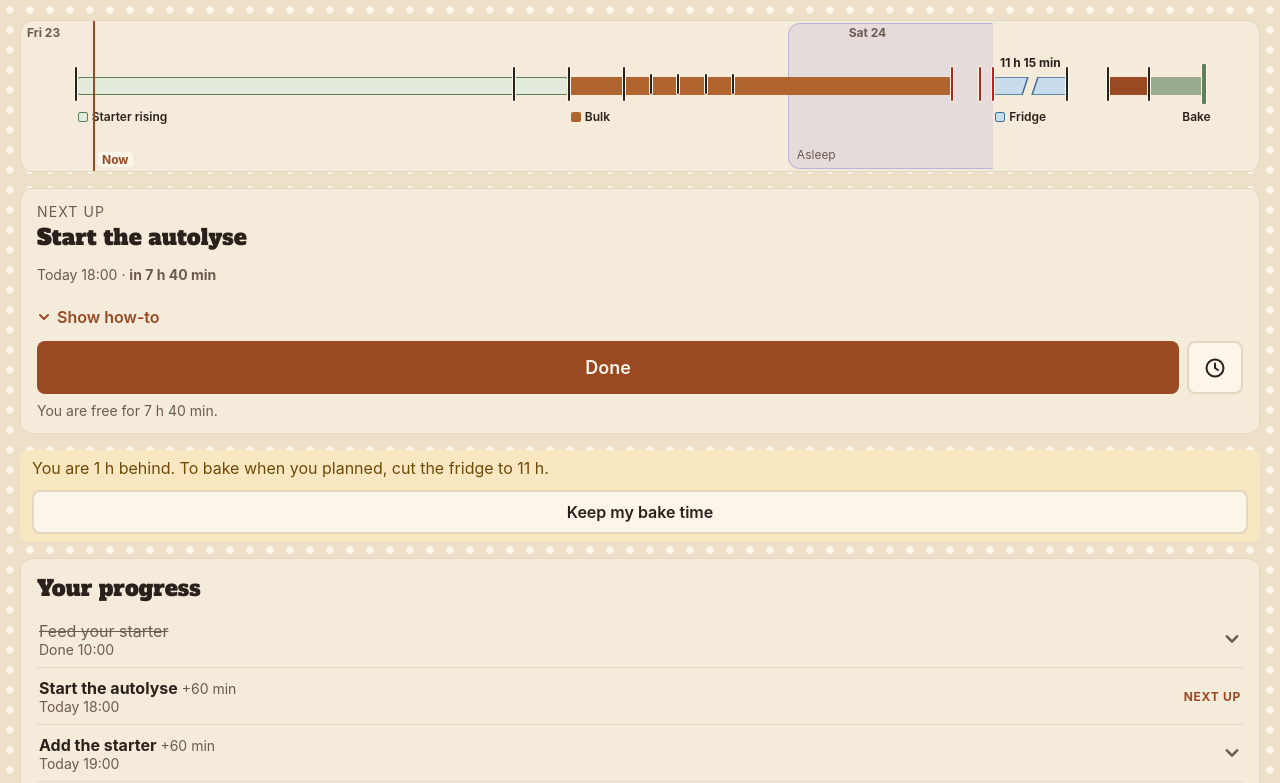
Test: live view › leaves out a quick answer that would be before the step above it
The image size is (1280, 783).
Click the button named "Done earlier" at (1215, 368), box [1187, 341, 1243, 394]
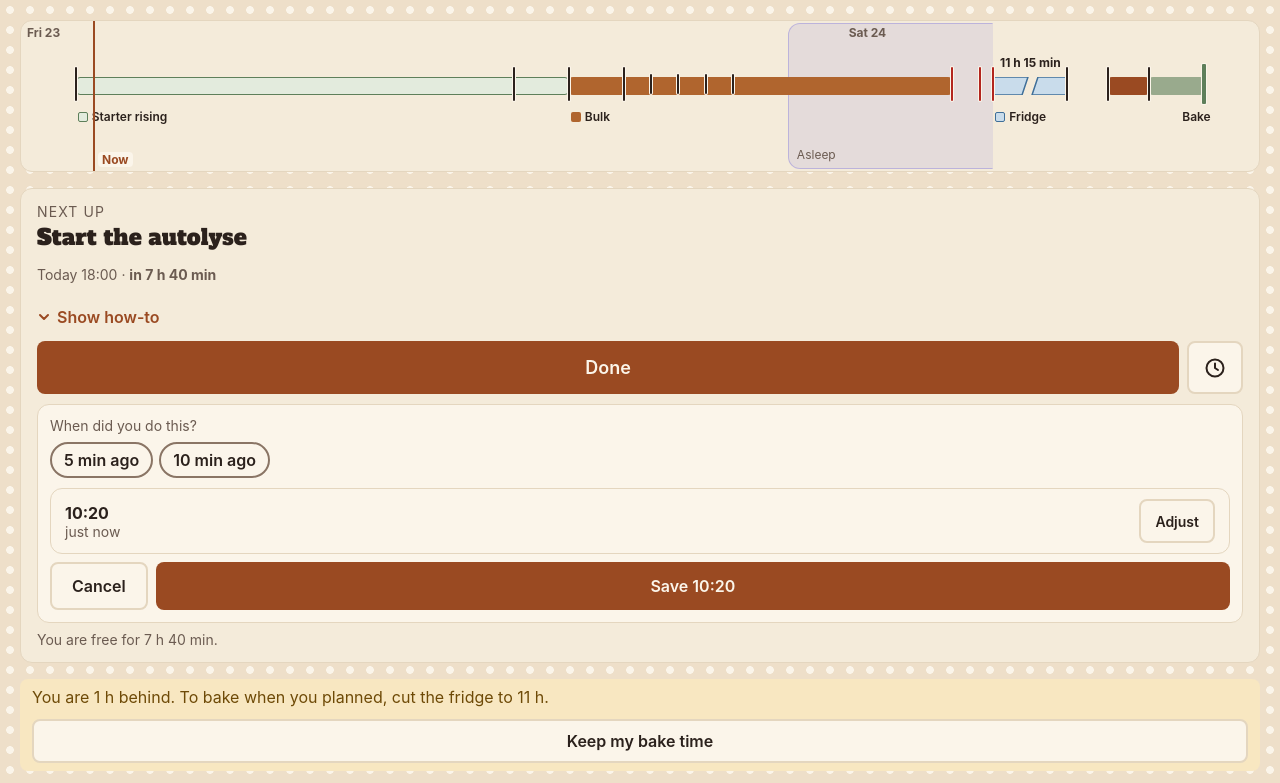
Check: the button "10 min ago" is shown, box [159, 442, 270, 478]
